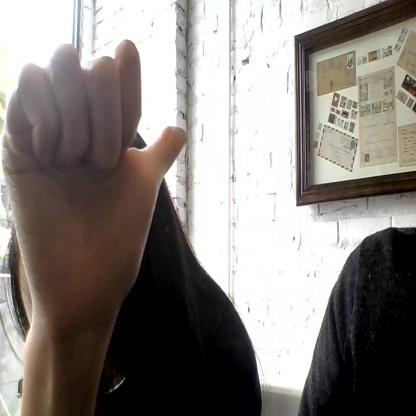left: (3, 40, 190, 314)
